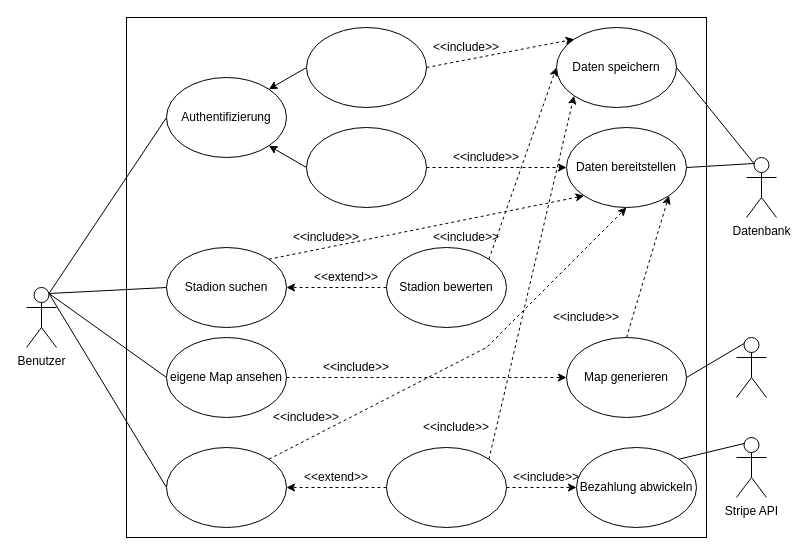
This 807x555 diagram has some shape labels left out. Each missing label, with the centre of its shape:
"Account erstellen" belongs at (366,67).
"Anmelden" belongs at (366,167).
"Maps API" belongs at (751,367).
"Sitz auswählen" belongs at (446,487).
"Spiele anzeigen" belongs at (226,487).
